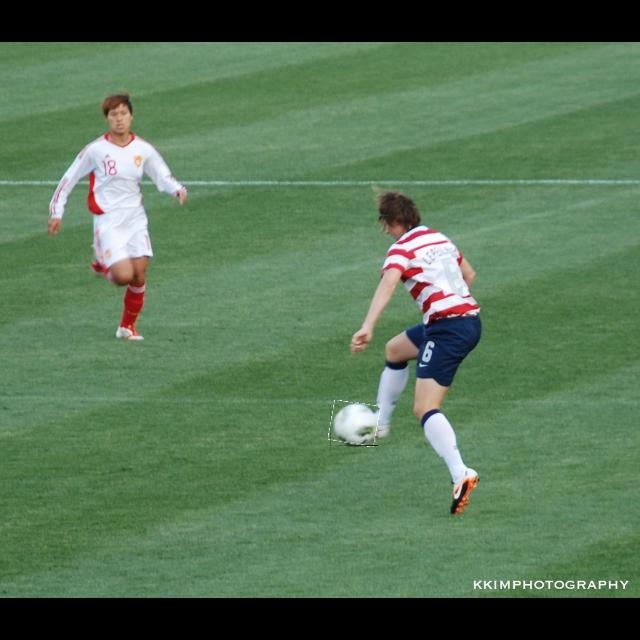Football: (330, 402, 378, 446)
